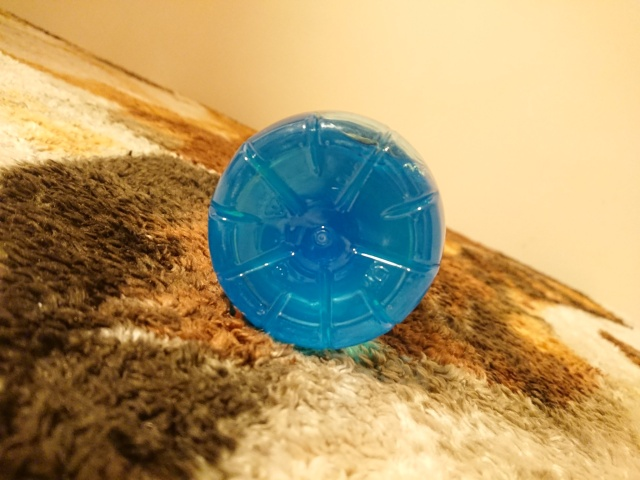Vindi Iso Sport Forest Strawberries 500mL: (205, 107, 447, 353)
